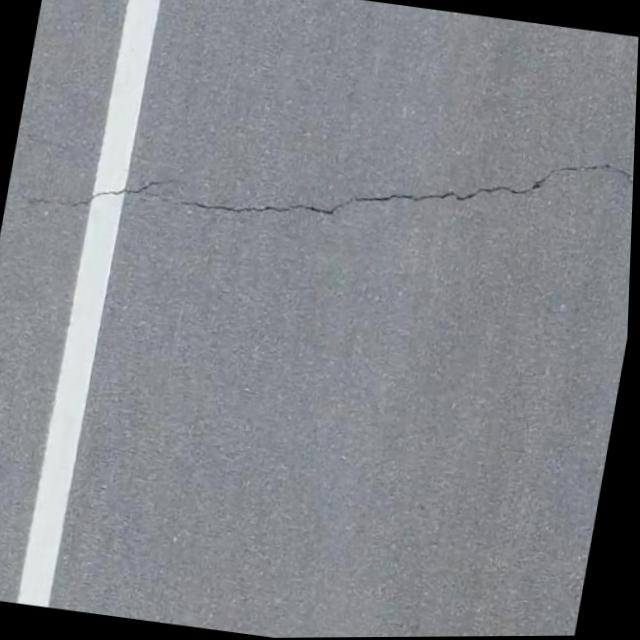Crack: (2, 80, 638, 303)
